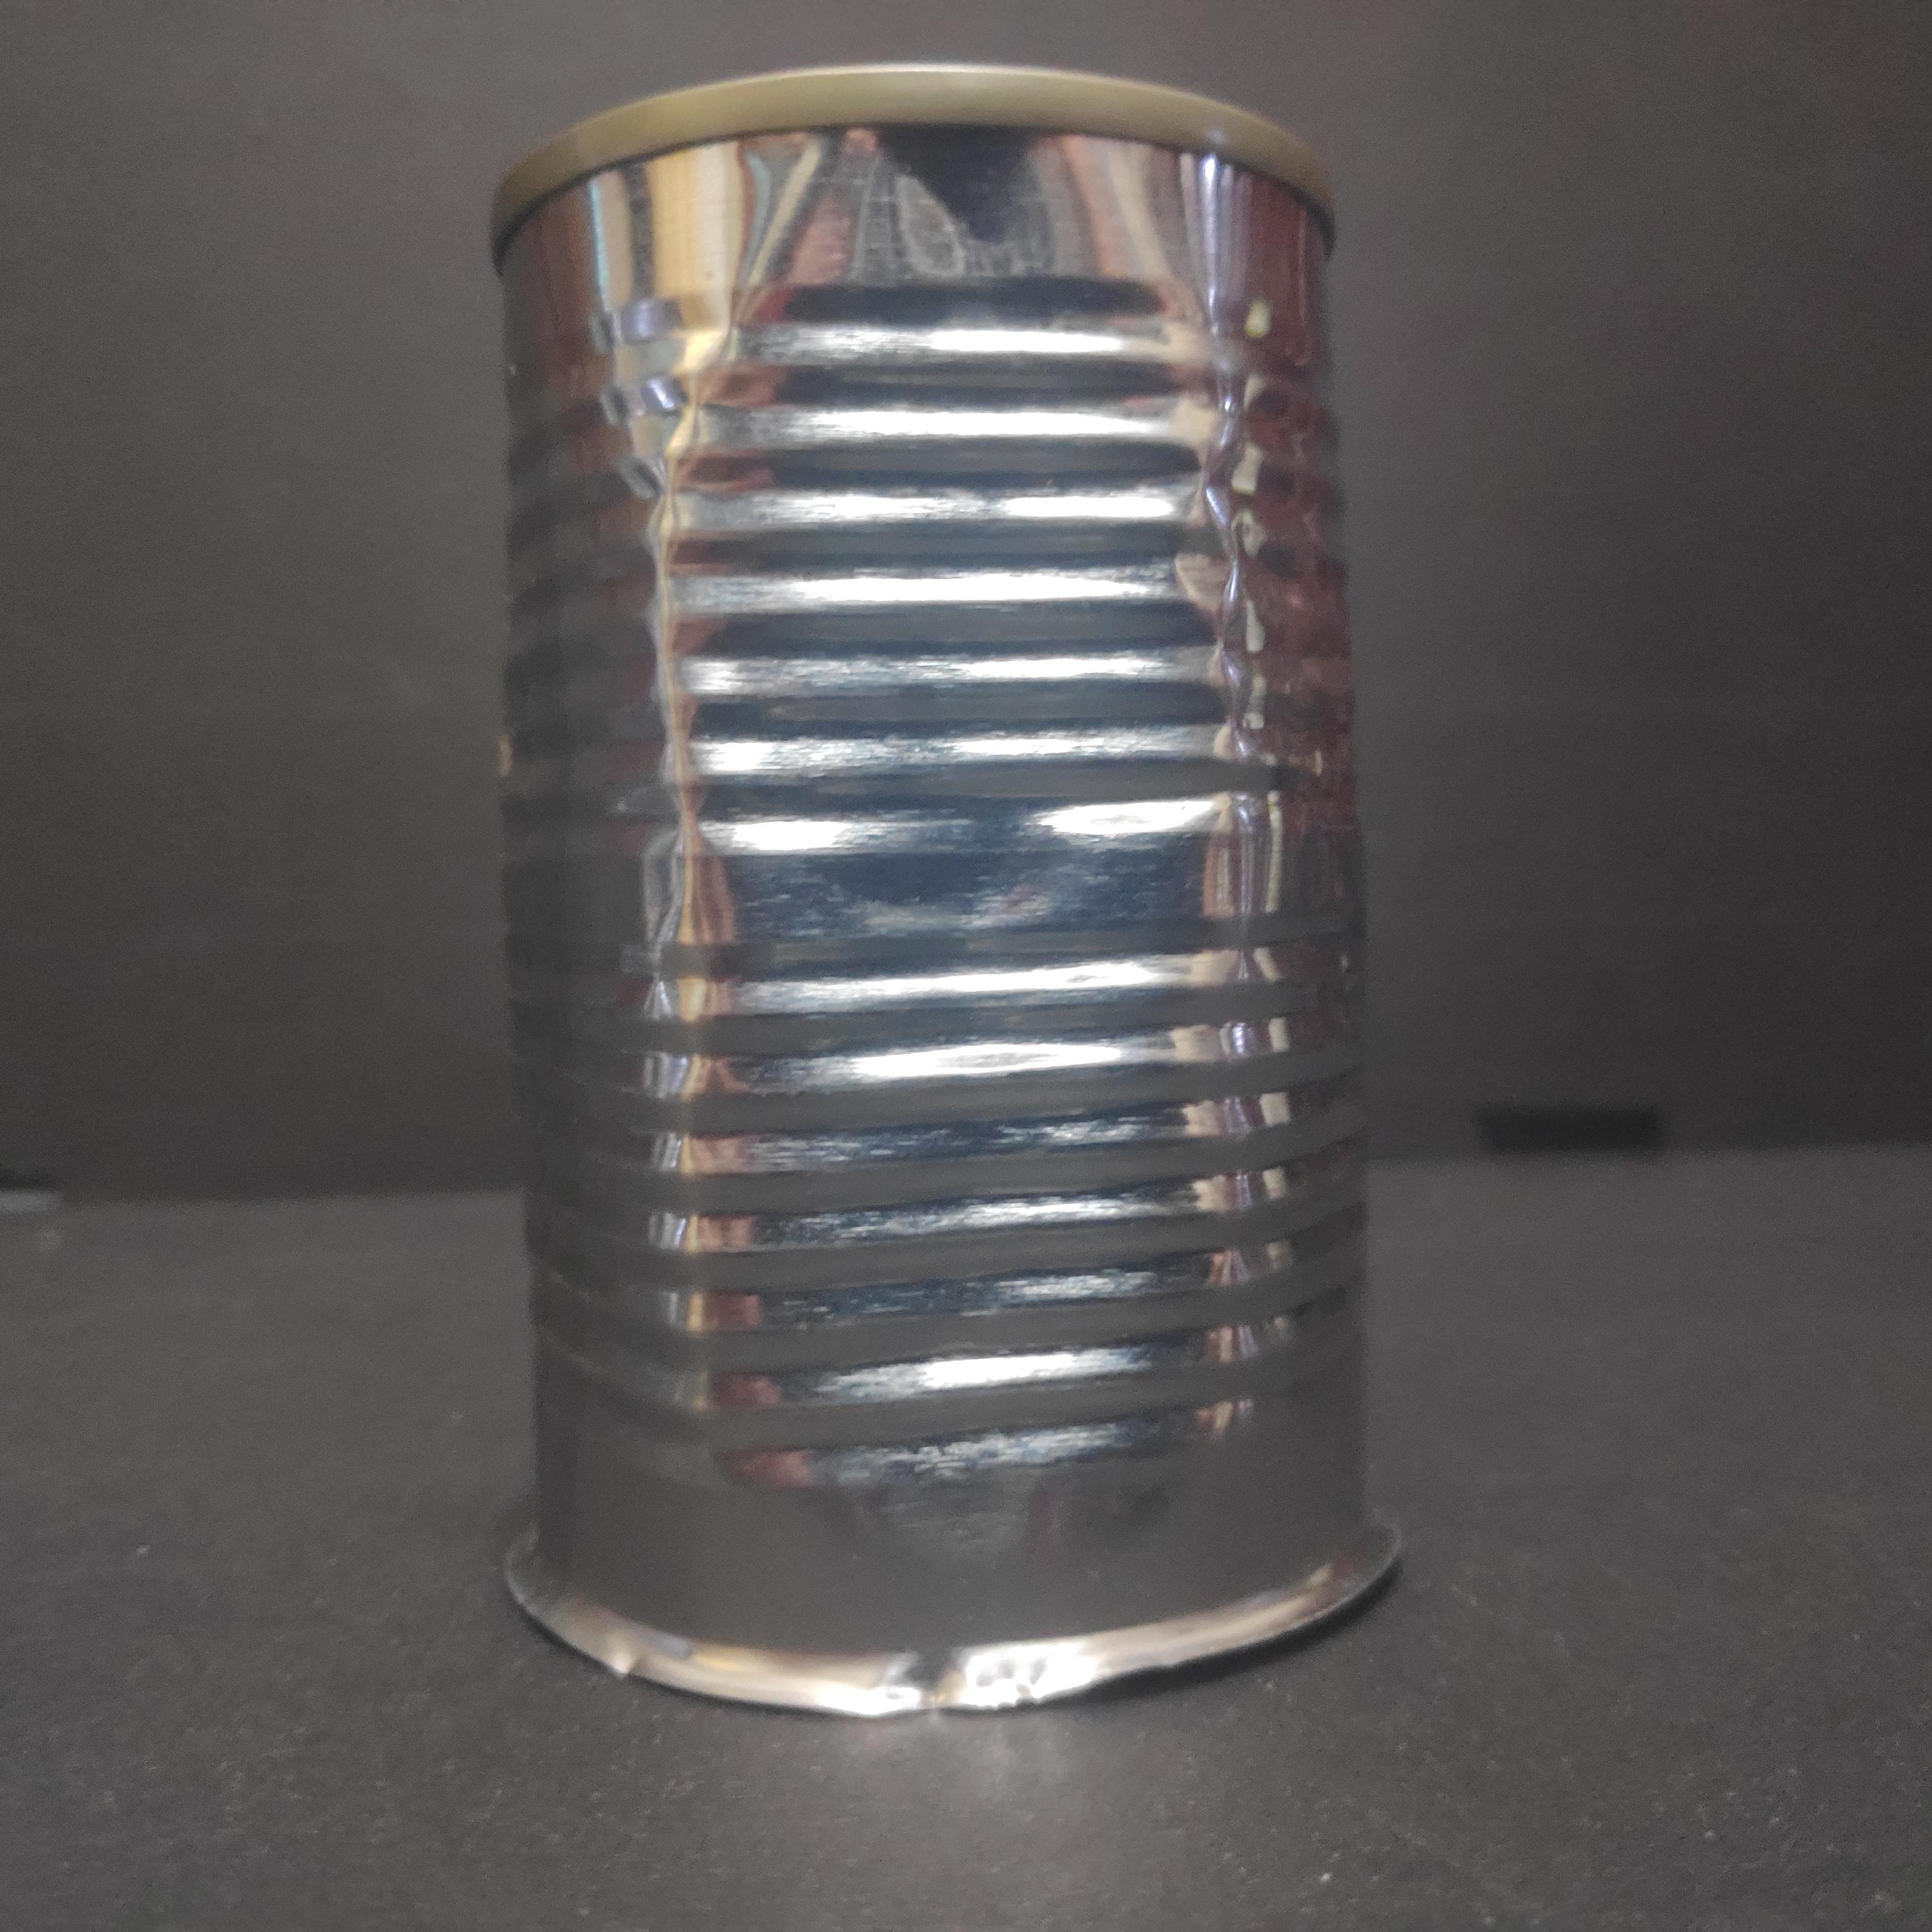Dented: (453, 28, 1421, 1729)
